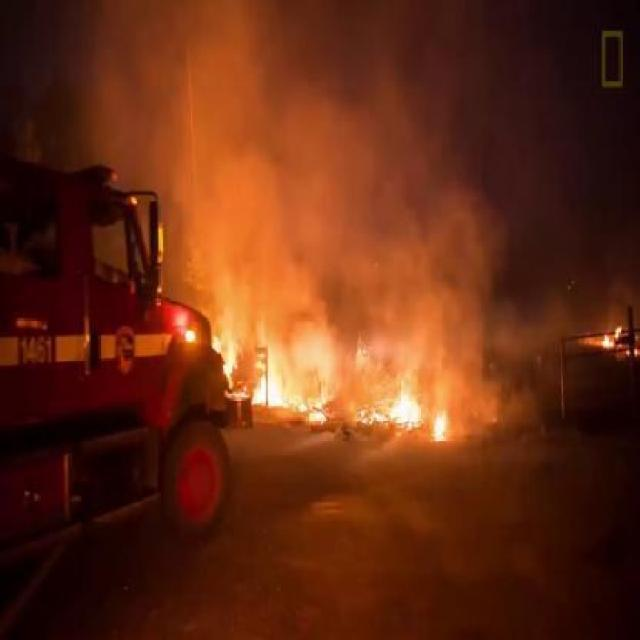Fire: (255, 332, 323, 417), (364, 378, 419, 432), (208, 322, 238, 376), (600, 318, 623, 349), (432, 410, 450, 446)
